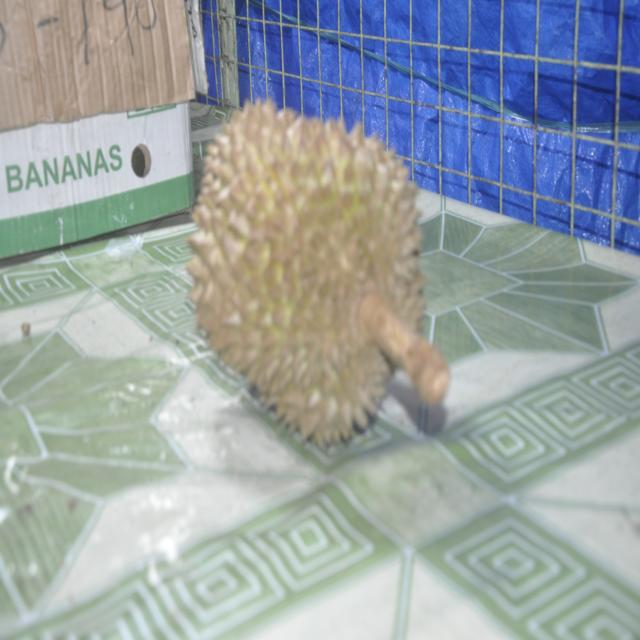mature: (187, 101, 449, 444)
